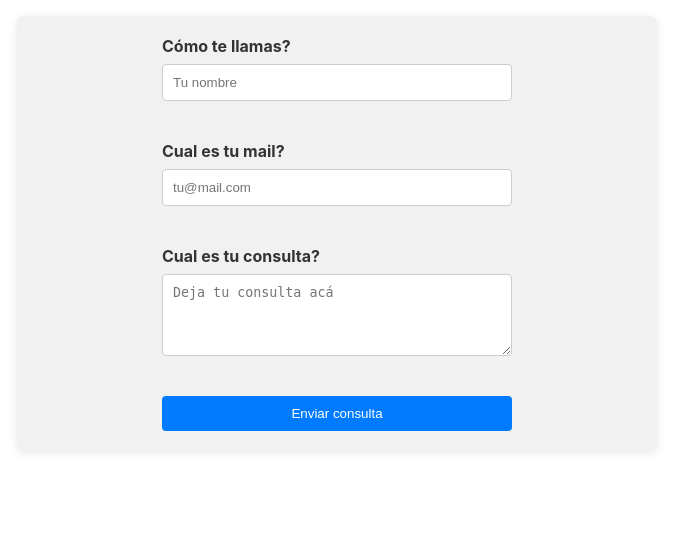
Scenario: Form Component › shows error message when name is less than 3 characters
Type "AL" into the field with placeholder "Tu nombre" at (337, 82), box [162,64,512,101]
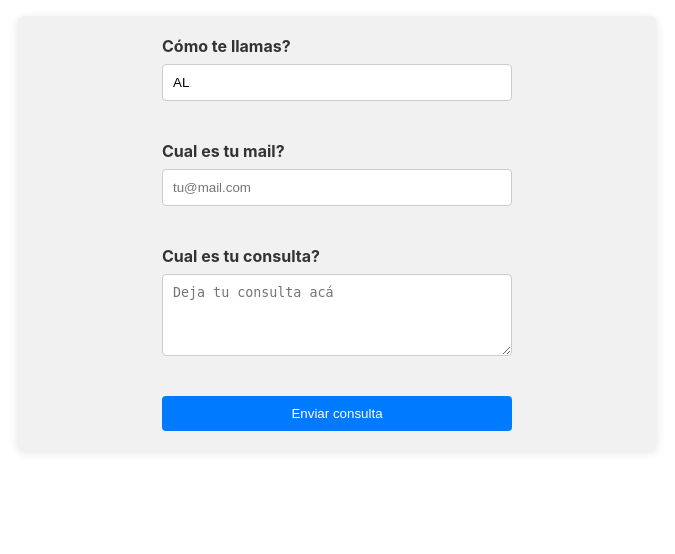
Type "alexia@gmail.com" into the field with placeholder "tu@mail.com" at (337, 188), box [162,169,512,206]
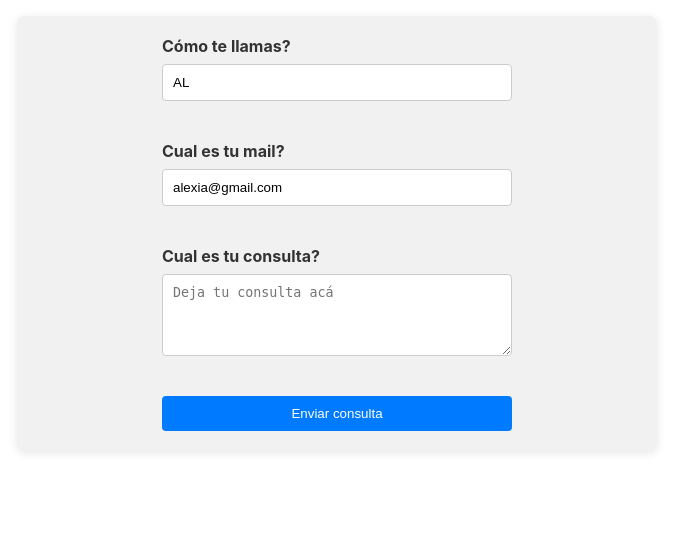
Click the button "Enviar consulta" at (337, 414), box [162,396,512,431]
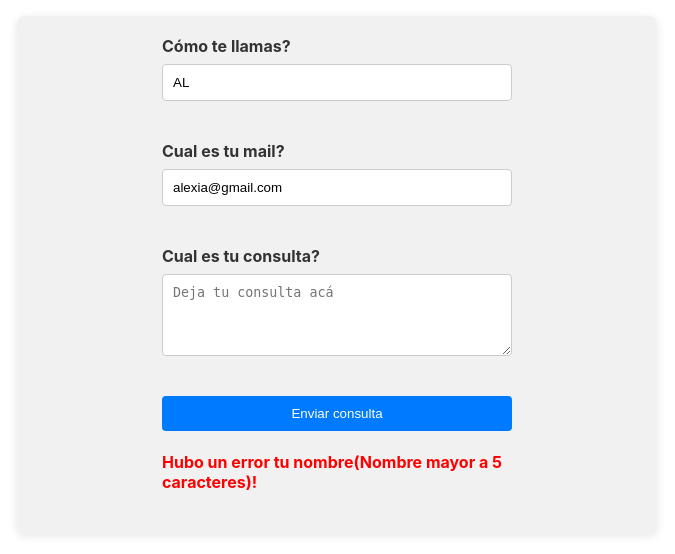
Expected: the heading "Hubo un error tu nombre(Nombre mayor a 5 caracteres)!" is shown, [162,452,512,492]
